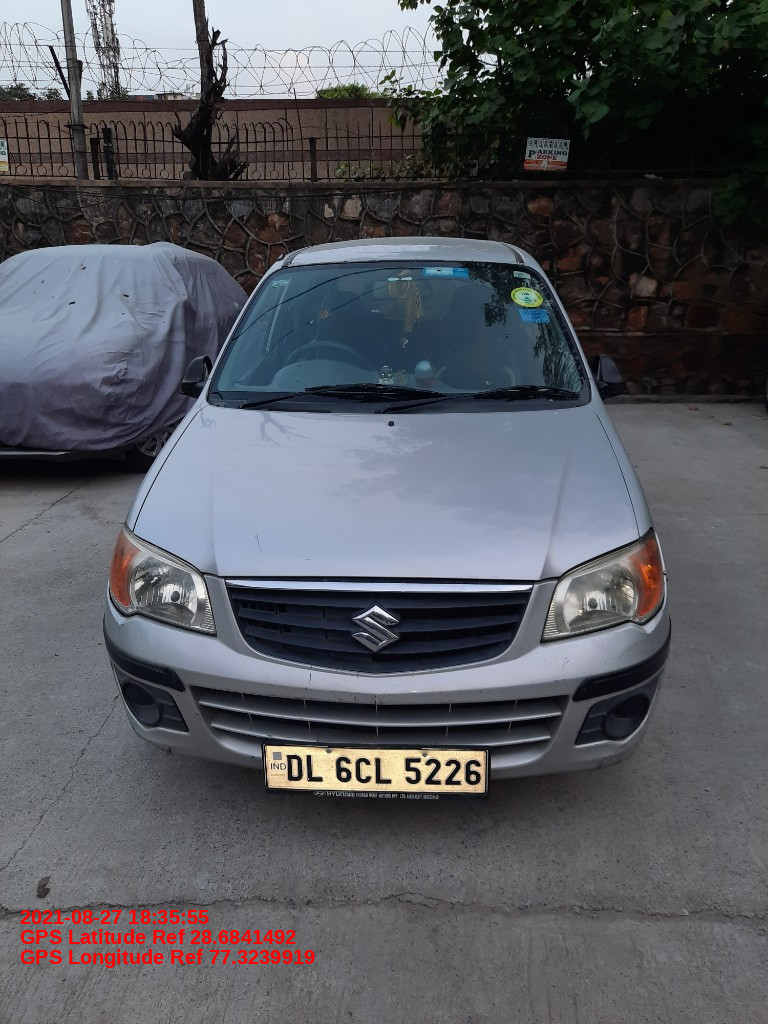Scratched: (617, 629, 651, 667), (588, 747, 638, 770), (334, 689, 399, 704), (250, 523, 268, 564), (290, 550, 322, 568), (554, 650, 575, 676), (191, 706, 210, 726), (303, 662, 317, 689), (162, 742, 179, 756)
